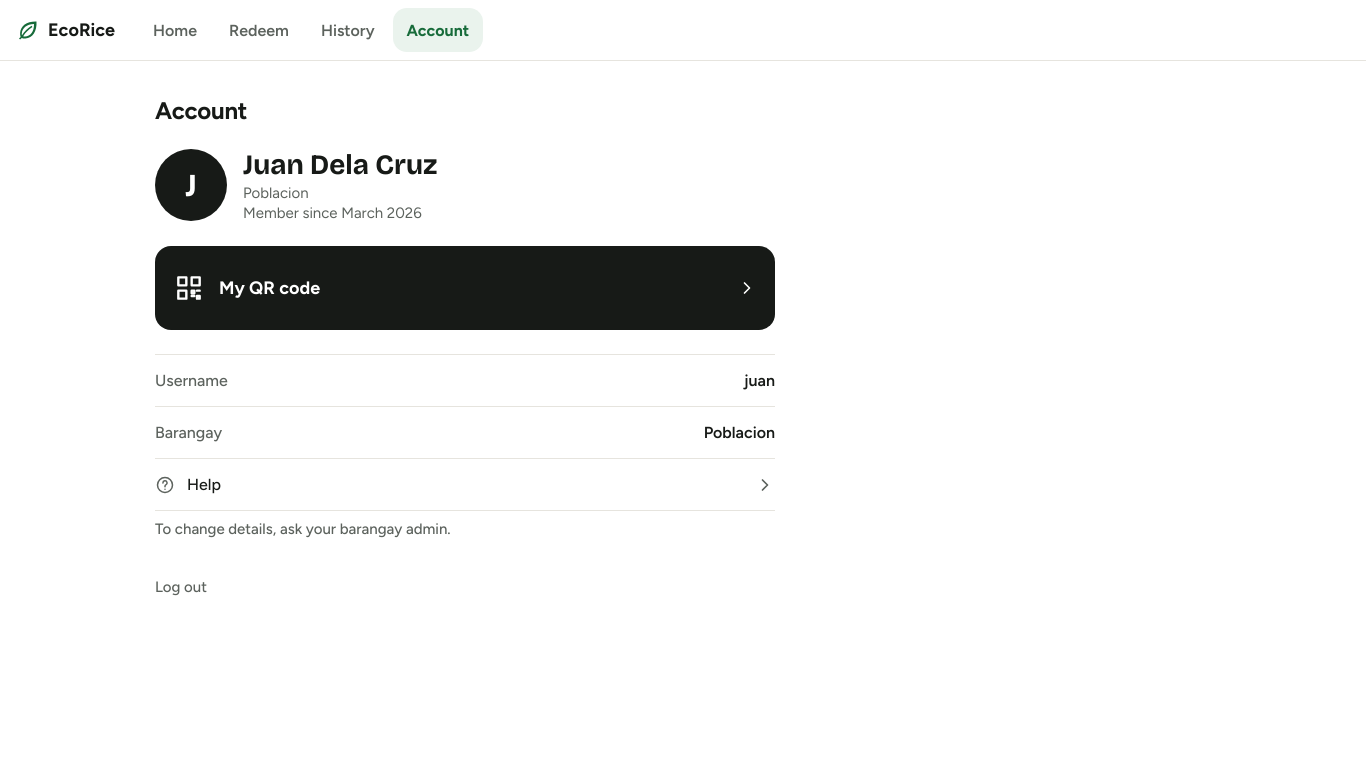
Test: opens Help with the three questions and closes with Close
Click the button "Help": click(204, 485) [155,459,775,511]
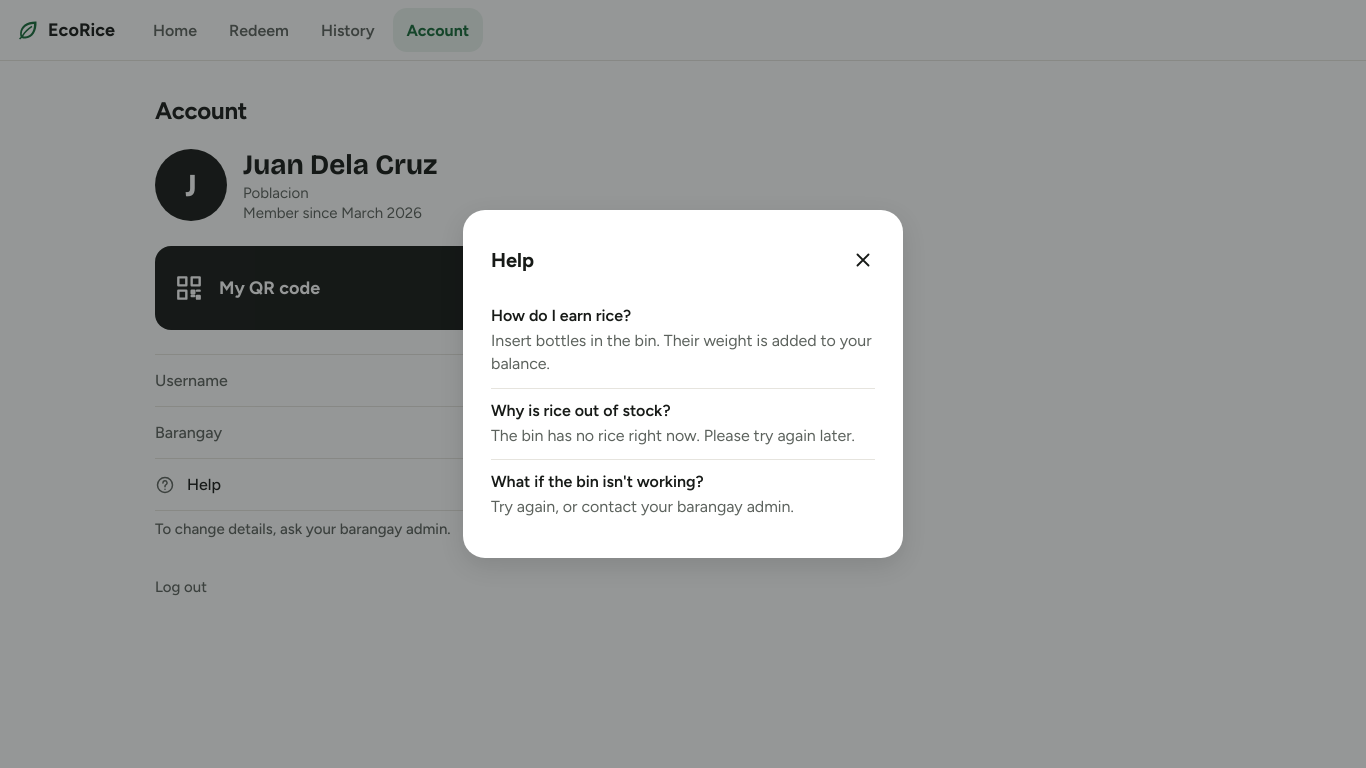
Click the button named "Close": click(863, 260) [841,238,885,282]
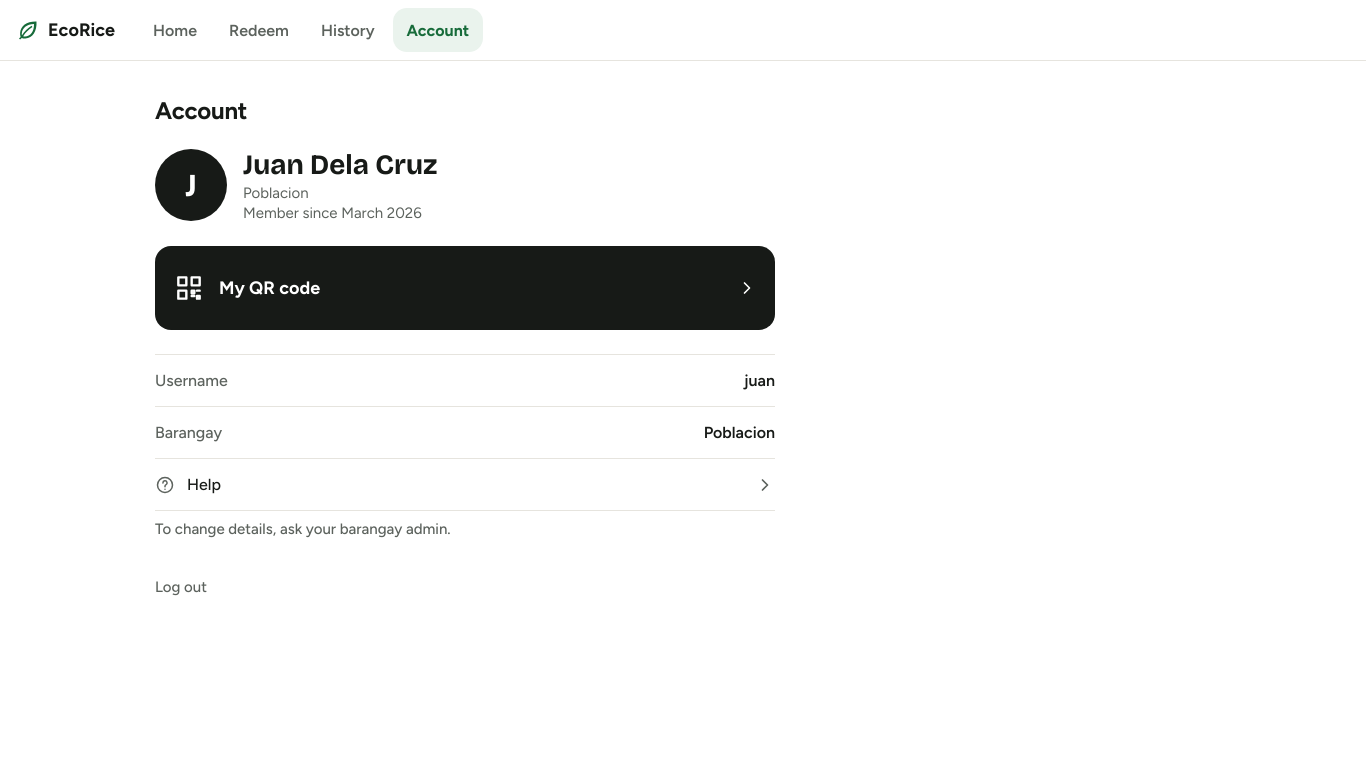
Expected: the dialog is gone
